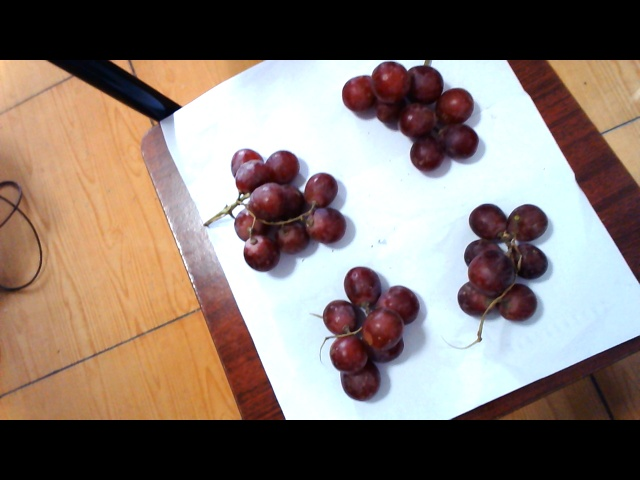grape: (337, 60, 491, 172), (207, 145, 348, 264), (311, 262, 423, 397), (460, 199, 544, 324)
